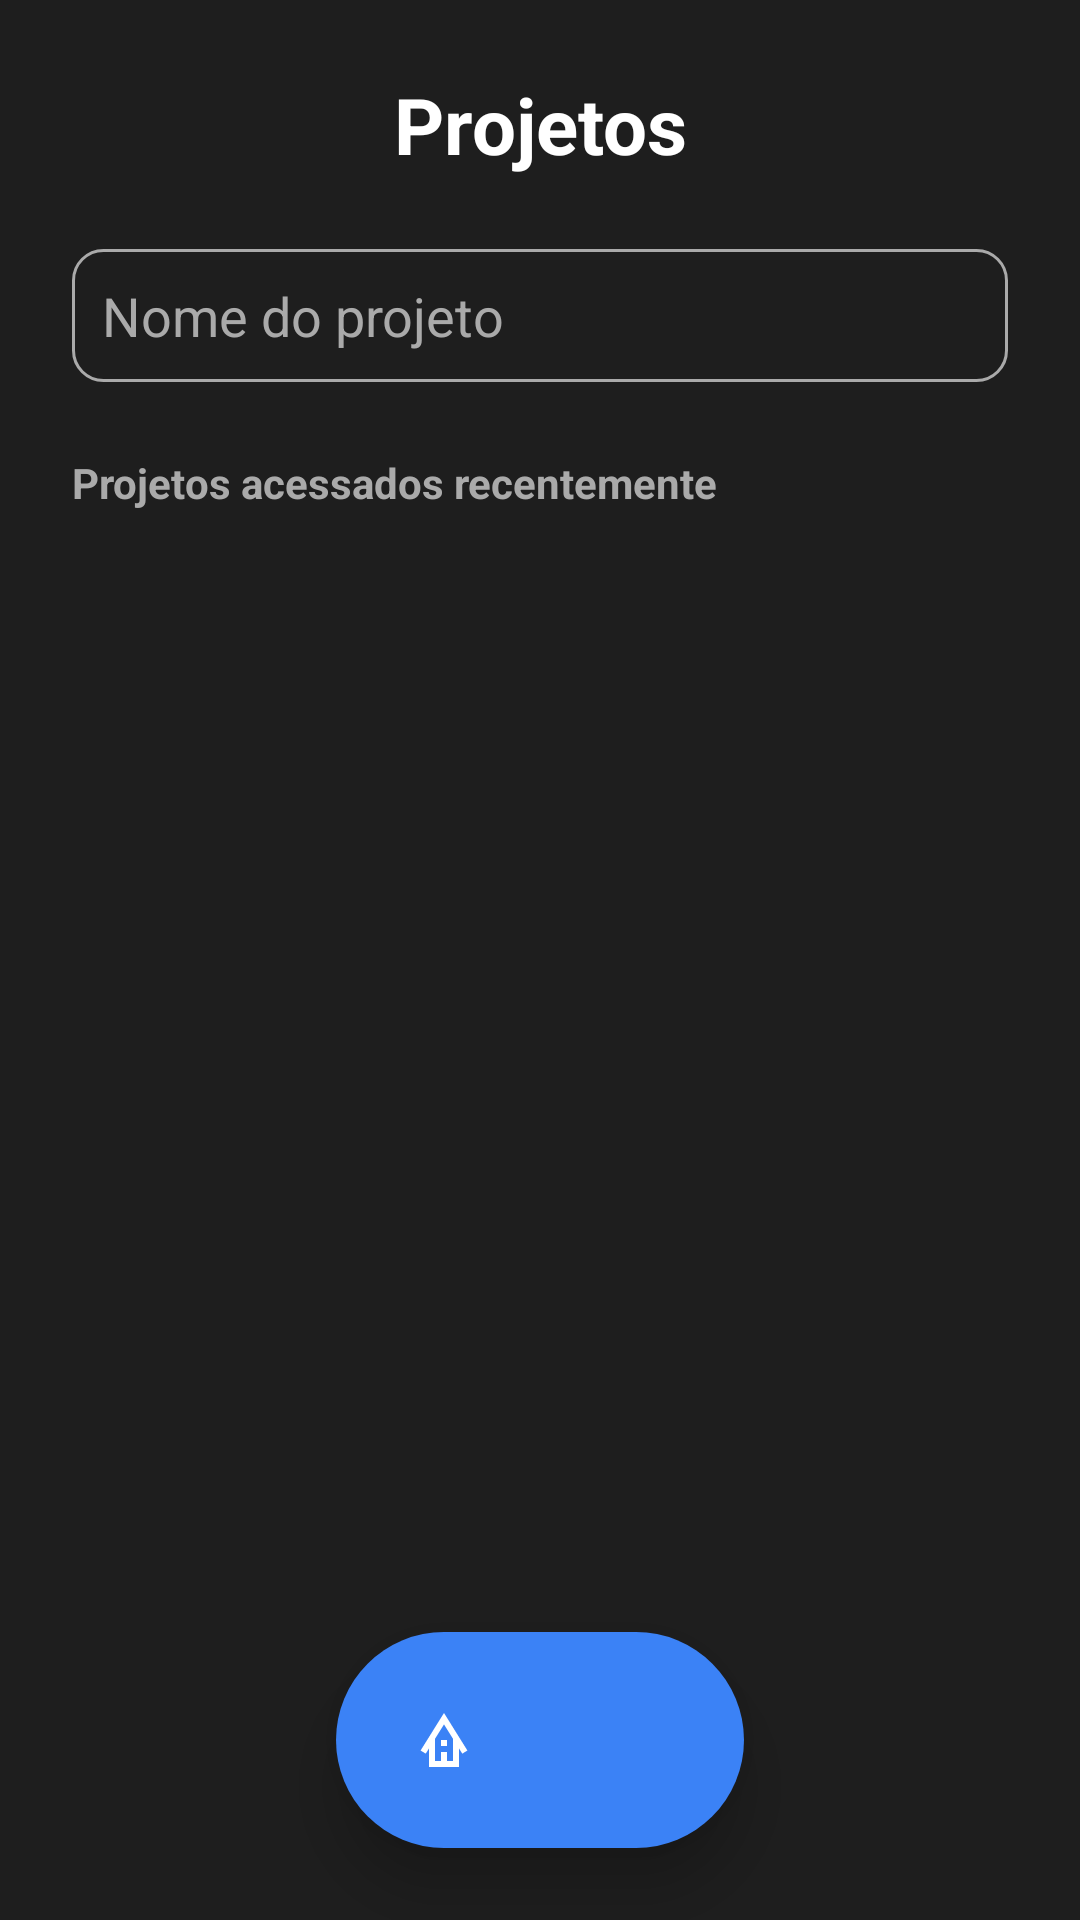

Screen size 1080w x 1920h. Icon name, then its center in pixels as (x=x, y=y):
home: (x=444, y=1740)
